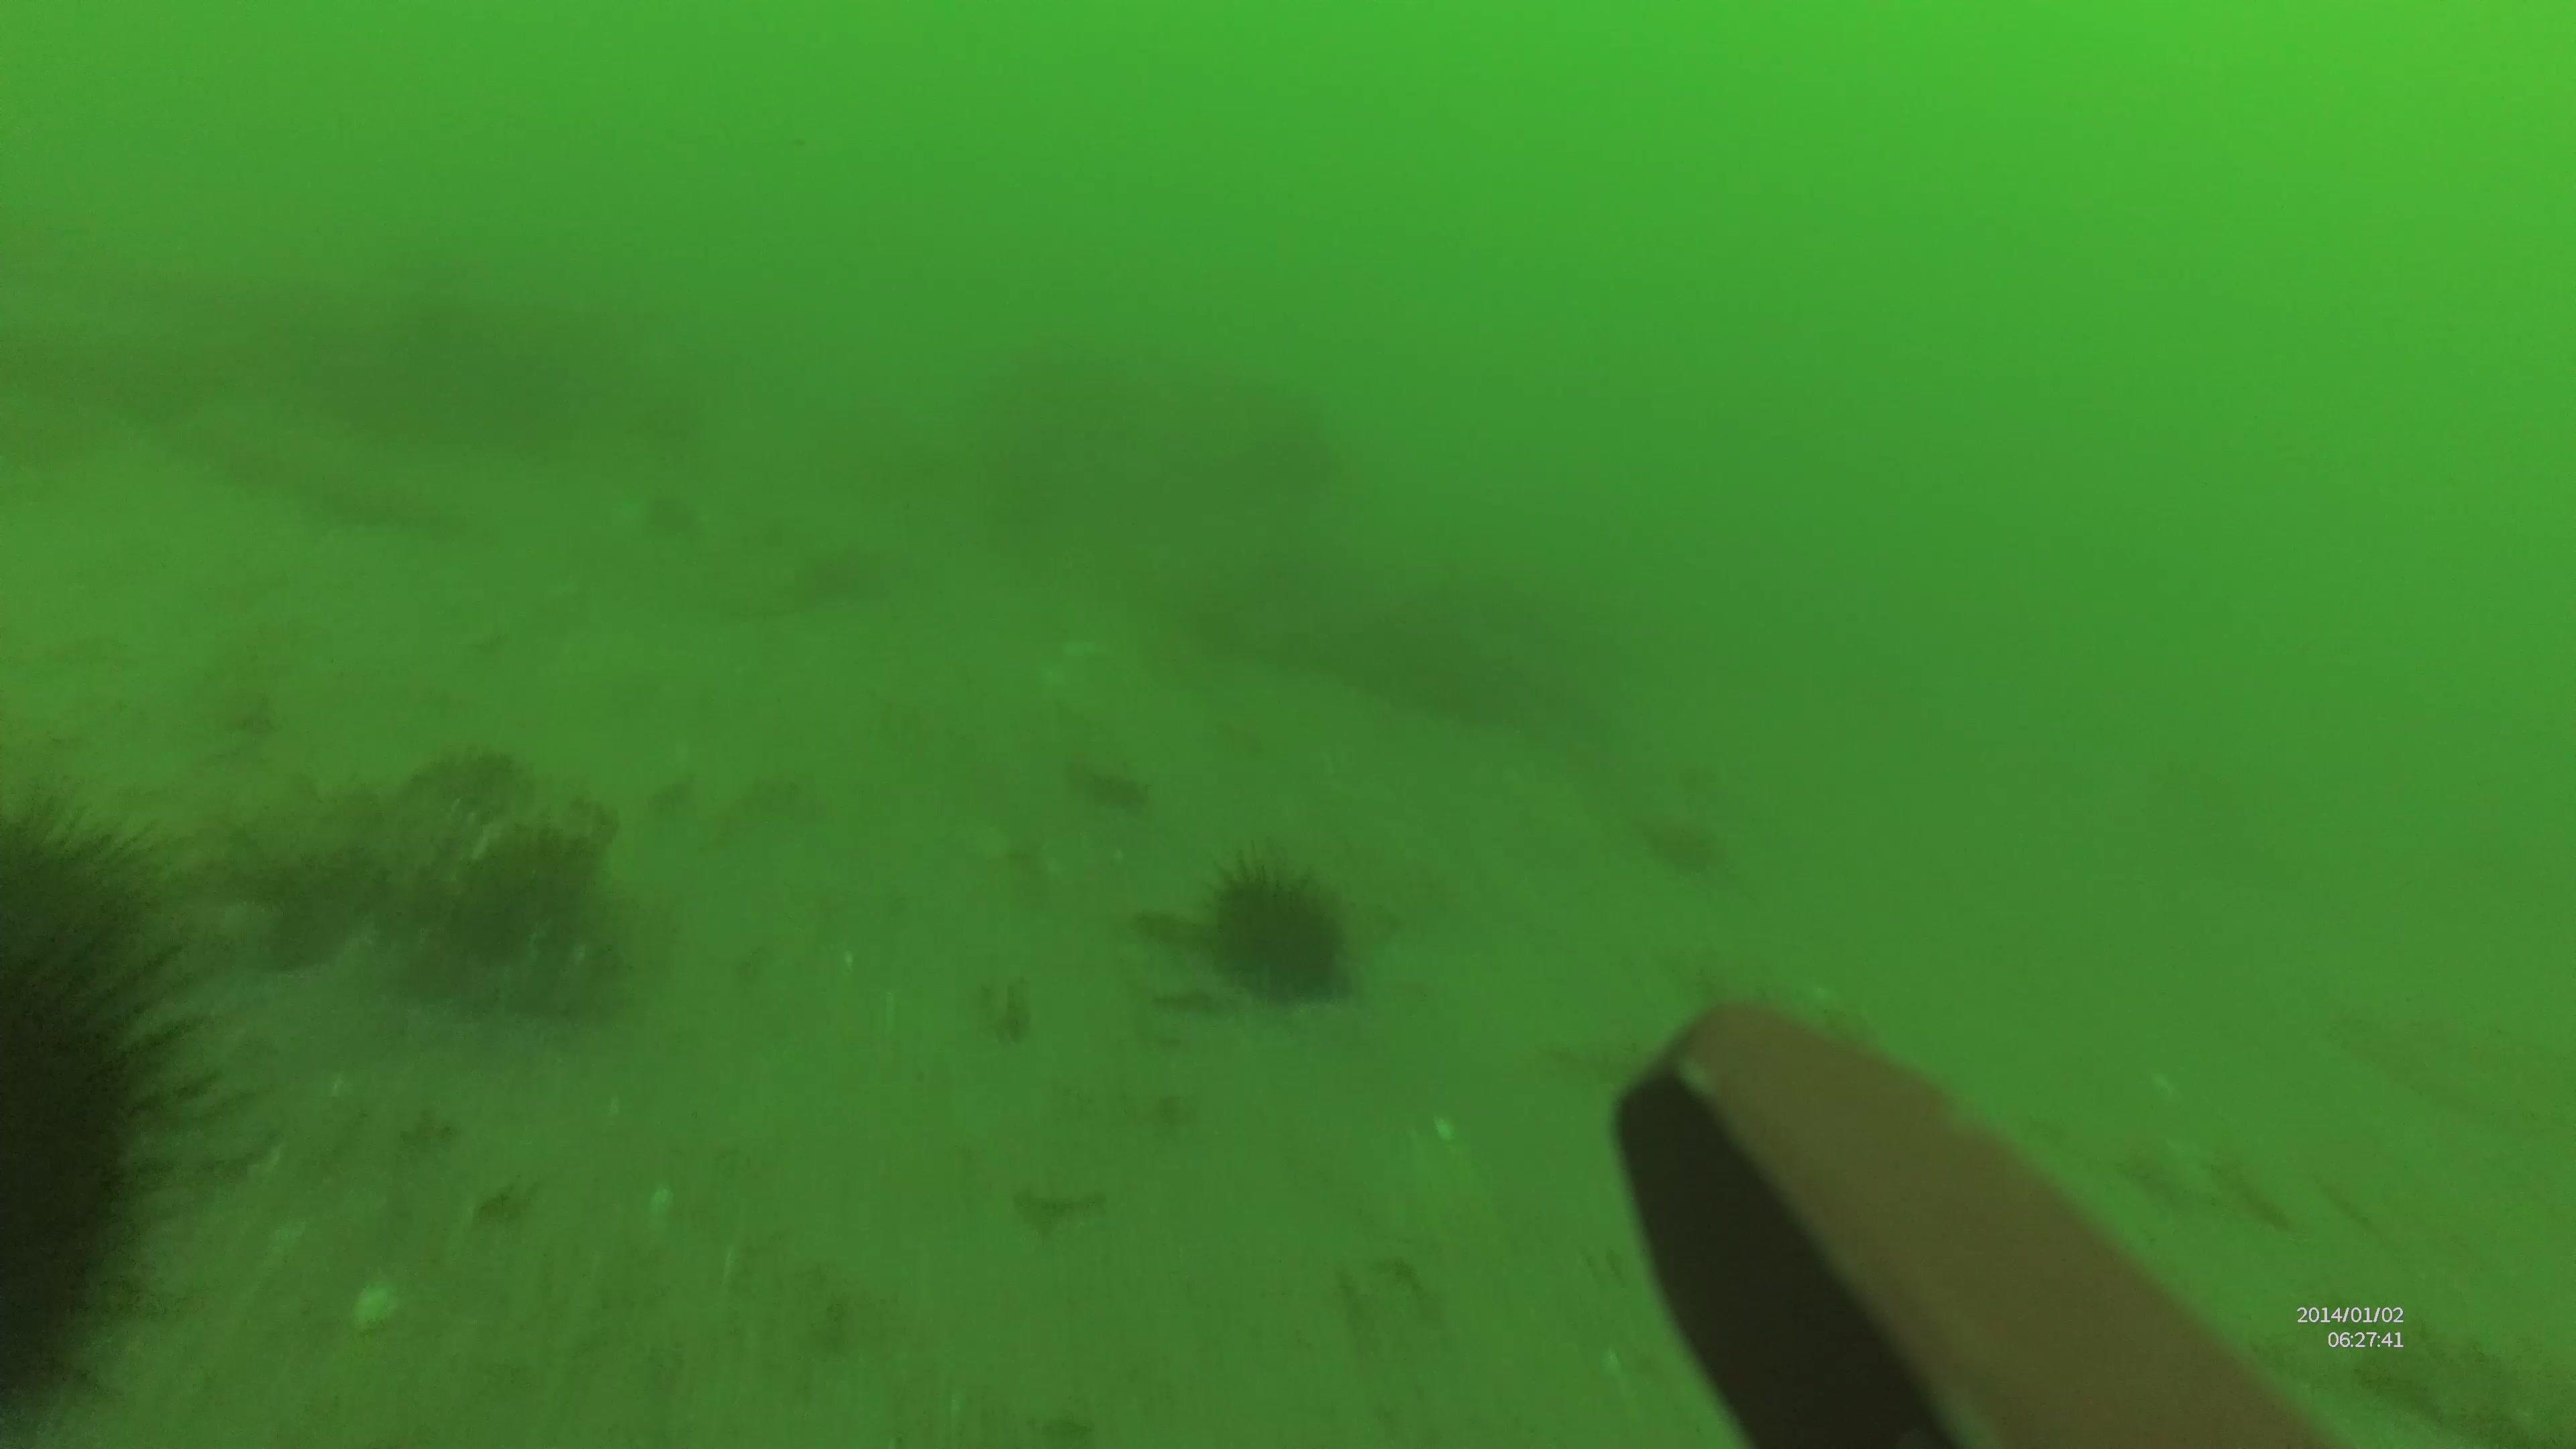echinus: (7, 899, 267, 1445), (4, 777, 186, 973), (1205, 842, 1350, 1007)
